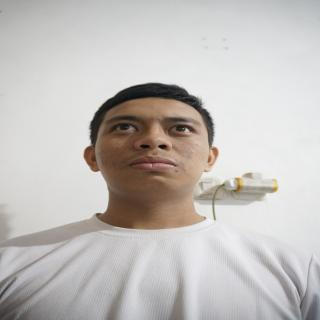Marah: (92, 97, 221, 203)
